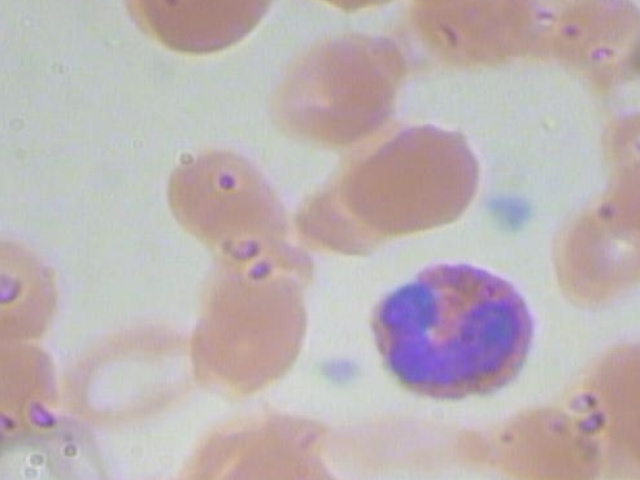Platelets: (483, 190, 531, 233), (311, 353, 364, 391)
RBC: (336, 117, 494, 237), (58, 315, 208, 428), (265, 29, 409, 146), (161, 138, 303, 254), (187, 274, 315, 390), (533, 187, 640, 304), (470, 395, 612, 480), (122, 0, 284, 64), (0, 329, 65, 466), (0, 232, 64, 347), (546, 0, 640, 78), (596, 103, 640, 198)
WBC: (357, 260, 542, 404)
